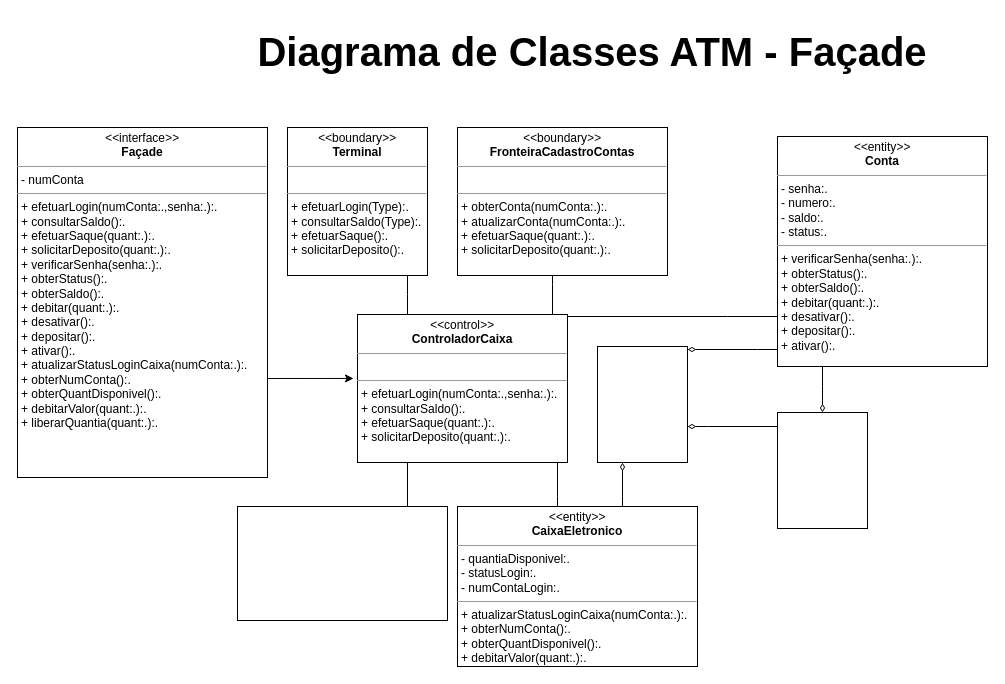
The diagram is 1005 pixels wide and 684 high, and some of its shapes have lost their labels. Each missing label, with the centre of its shape:
"<< boundary >> FronteiraDispensadorNotas + liberarQuantia(quant:.):." goes at pixel 342 563.
"<< entity >> Banco - cod:. - nome:." goes at pixel 642 404.
"<< entity >> FichaCliente - nome:. - RG:. - CPF:." goes at pixel 822 470.
